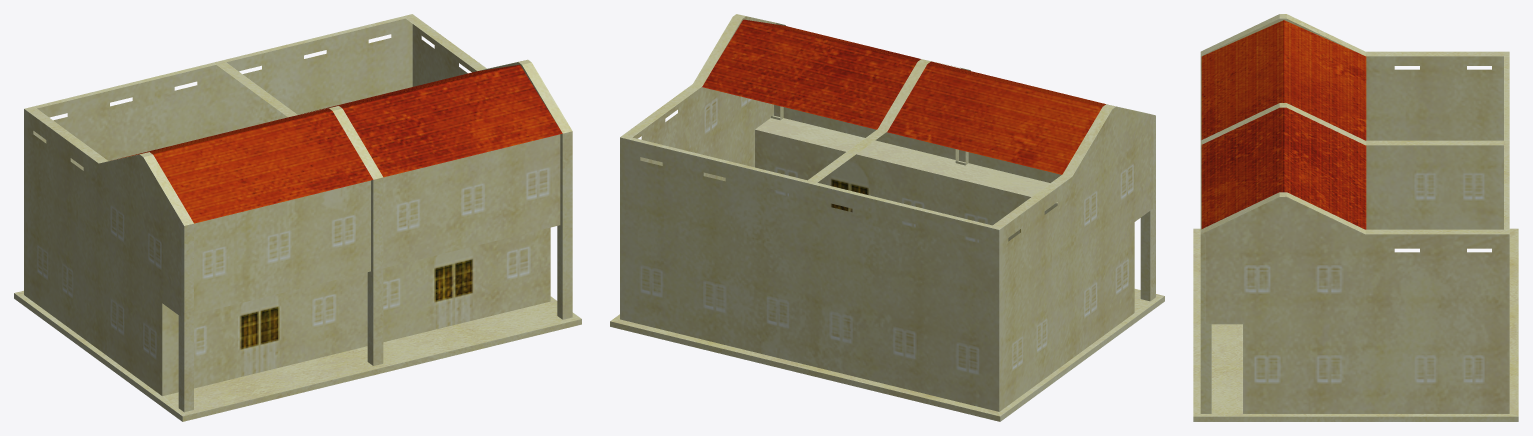
File: House_Semi_D_Kaya_LOD_1.fbx
The picture shows the model from 3 angles, left to right: view 1: azimuth 30°, elevation 25°; view 2: azimuth 150°, elevation 25°; view 3: azimuth 270°, elevation 25°; orthographic projection. The views are drawn at different scales.
Parts seen in each view (by area): view 1: Cube; view 2: Cube; view 3: Cube.
Part boxes in pixels (left/top/right/bottom): Cube: left=14, top=14, right=581, bottom=421; Cube: left=610, top=14, right=1164, bottom=421; Cube: left=1193, top=14, right=1518, bottom=421.
Size of the model in its own units: 1234 by 681 by 902.
